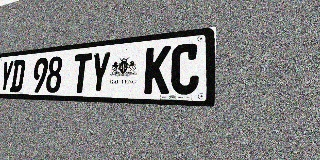8: (45, 56, 64, 93)
9: (31, 57, 49, 92)
C: (170, 43, 200, 95)
D: (9, 59, 26, 92)
K: (143, 45, 171, 94)
T: (71, 53, 92, 93)
Y: (89, 51, 111, 93), (0, 60, 14, 92)
